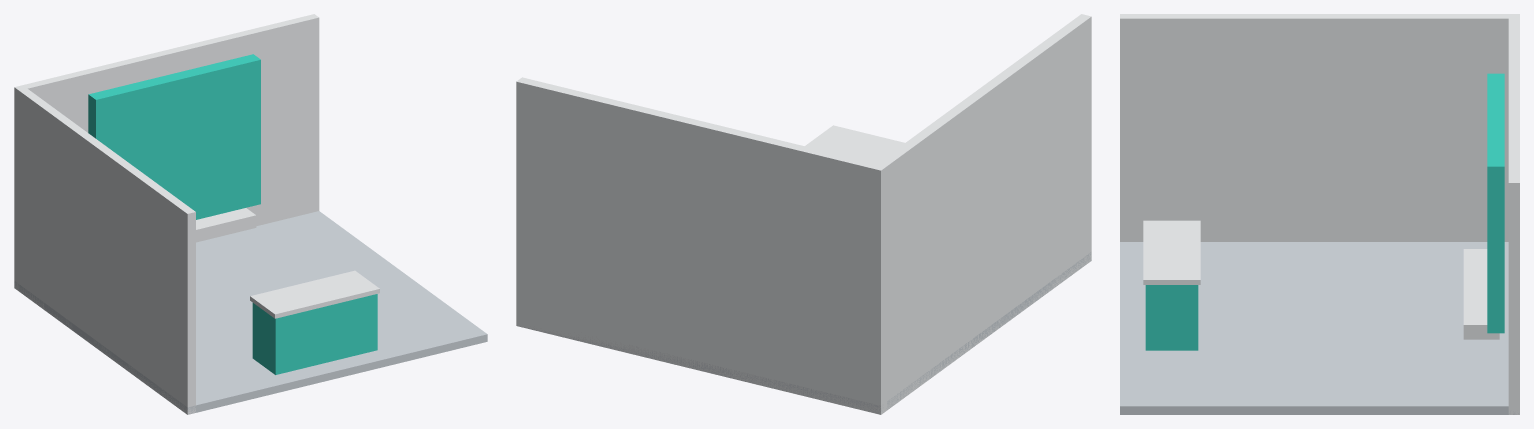
3 renders of one model, left to right at view 1: azimuth 30°, elevation 25°; view 2: azimuth 150°, elevation 25°; view 3: azimuth 270°, elevation 25°, orthographic. The views are drawn at different scales.
Visible parts, largest first — view 1: Exhibition Booth Concept; view 2: Exhibition Booth Concept; view 3: Exhibition Booth Concept.
Part boxes in pixels (x1,y1,x2,y2): Exhibition Booth Concept: (14,14,487,414); Exhibition Booth Concept: (516,14,1091,414); Exhibition Booth Concept: (1120,14,1519,414).
Size of the model in its own units: 5 by 3.2 by 5.
